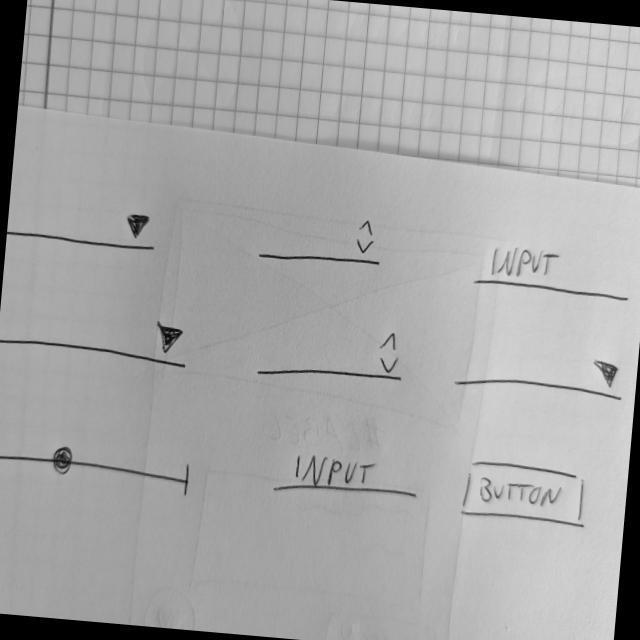button: (457, 455, 592, 531)
input: (469, 237, 635, 305), (272, 445, 426, 510)
number-input: (254, 315, 411, 394), (254, 203, 389, 274)
select: (1, 301, 198, 375), (449, 343, 629, 408), (7, 195, 162, 257)
slider: (1, 438, 195, 501)
